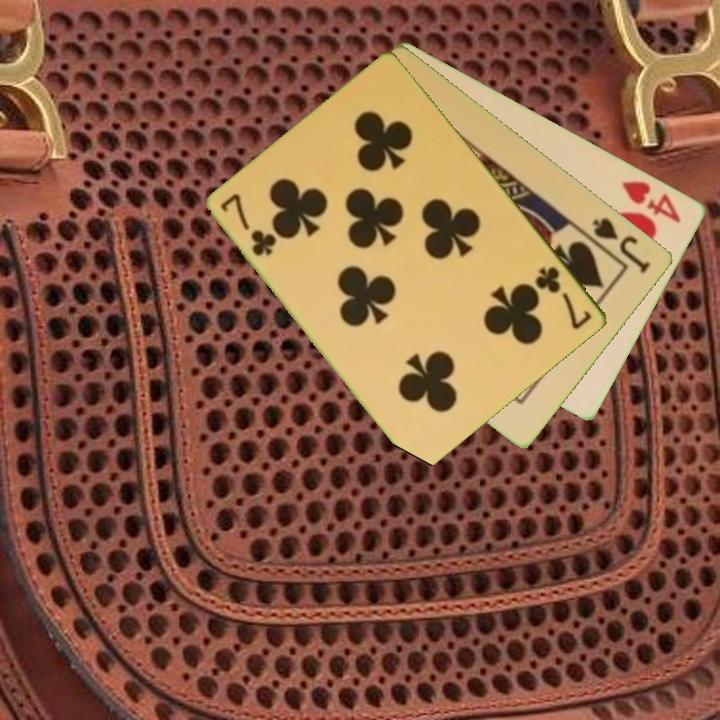4h: (618, 177, 685, 226)
7c: (531, 263, 595, 333), (217, 190, 279, 259)
Js: (589, 214, 654, 277)
